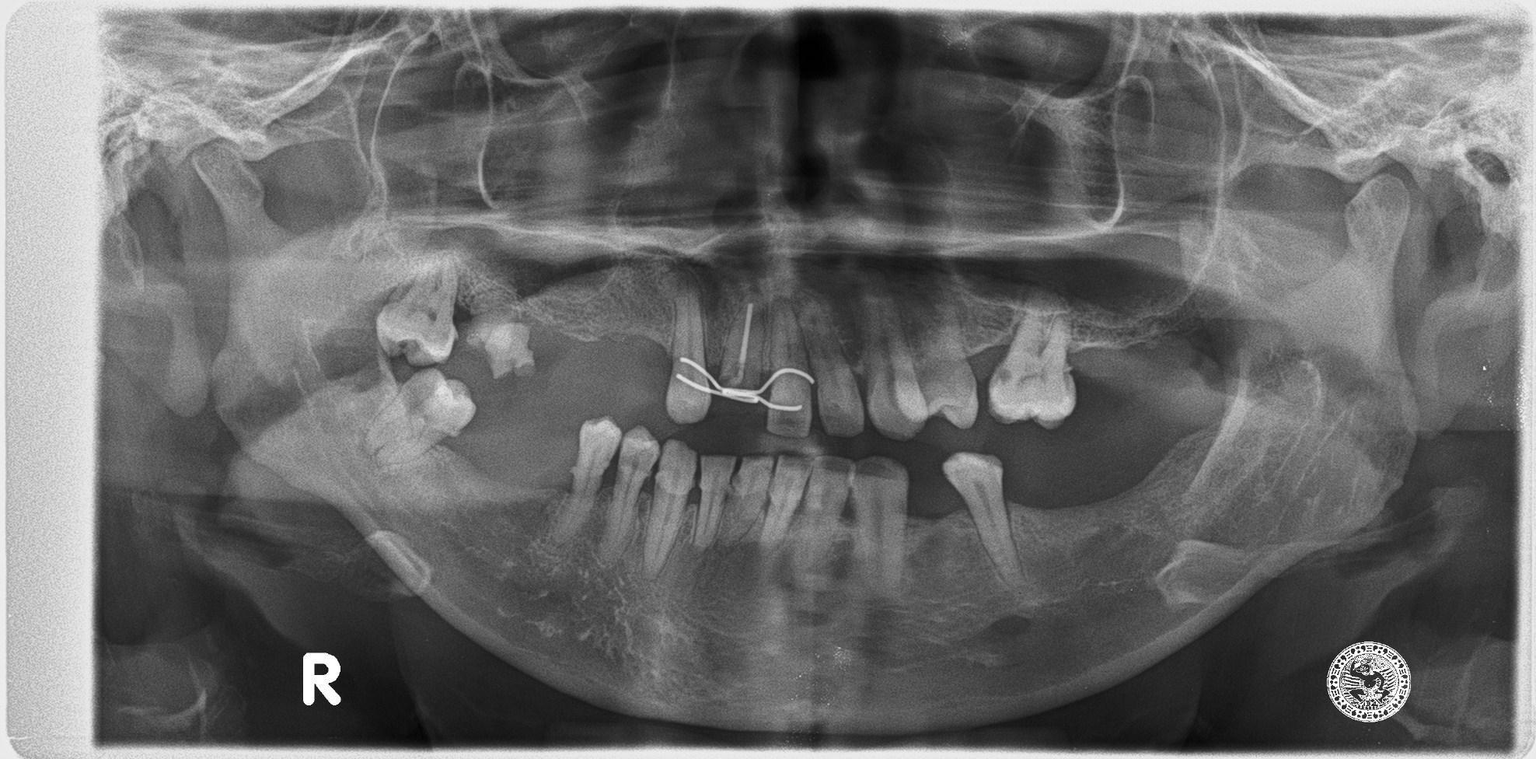Individual Tooth: (887, 282, 978, 427), (857, 285, 932, 439), (791, 289, 866, 435), (551, 418, 638, 542), (943, 453, 1023, 586), (367, 369, 475, 465), (989, 312, 1076, 428), (375, 264, 458, 366), (851, 457, 906, 600), (599, 428, 659, 559), (789, 456, 850, 579), (763, 300, 814, 437), (665, 285, 714, 424), (645, 439, 696, 562), (716, 457, 773, 541), (758, 456, 809, 548), (717, 303, 766, 390), (692, 456, 736, 551)
